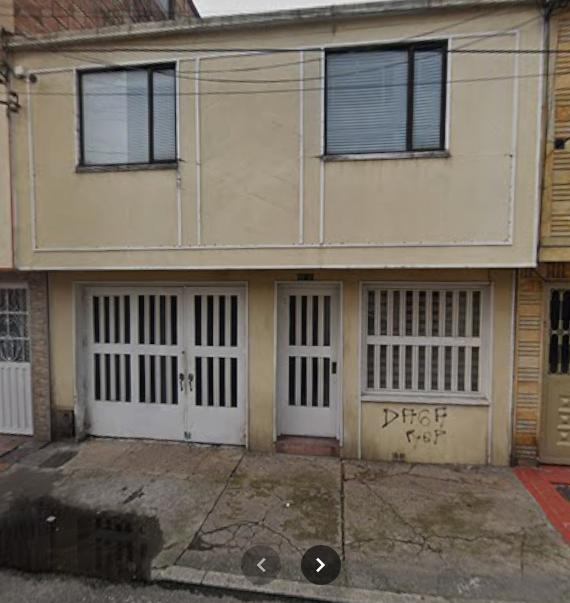casa: (16, 0, 542, 462), (12, 20, 544, 458)
